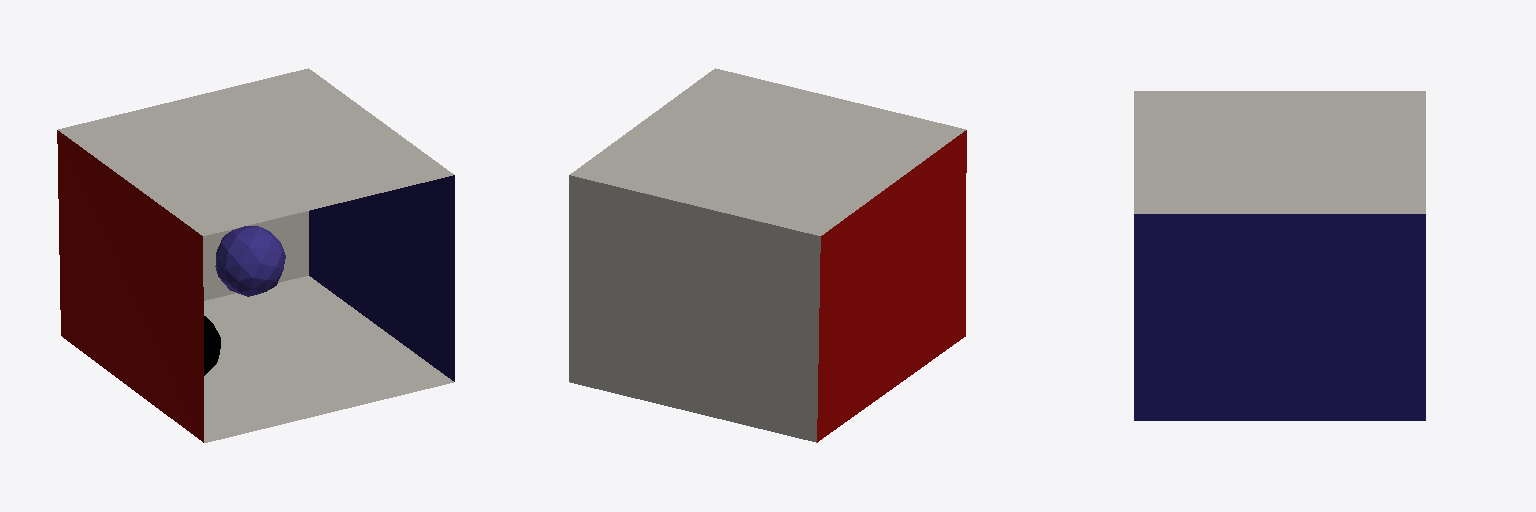
File: CornellBox-Sphere-1126.obj
3 views of the same model, side by side, from view 1: azimuth 30°, elevation 25°; view 2: azimuth 150°, elevation 25°; view 3: azimuth 270°, elevation 25° (orthographic).
Parts seen in each view (by area): view 1: ceiling, leftWall, floor, rightWall, leftSphere, backWall, rightSphere; view 2: backWall, ceiling, leftWall; view 3: rightWall, ceiling.
Part boxes in pixels (bbox=[...]): ceiling: bbox=[58, 68, 453, 235]; leftWall: bbox=[57, 130, 203, 442]; floor: bbox=[204, 276, 453, 442]; rightWall: bbox=[309, 175, 454, 381]; leftSphere: bbox=[215, 226, 285, 296]; backWall: bbox=[203, 211, 308, 300]; rightSphere: bbox=[204, 316, 220, 375]; backWall: bbox=[569, 175, 820, 442]; ceiling: bbox=[570, 68, 965, 235]; leftWall: bbox=[817, 130, 966, 442]; rightWall: bbox=[1134, 214, 1425, 420]; ceiling: bbox=[1134, 91, 1425, 213].
Size of the model in its own units: 2.02 by 1.59 by 2.03.